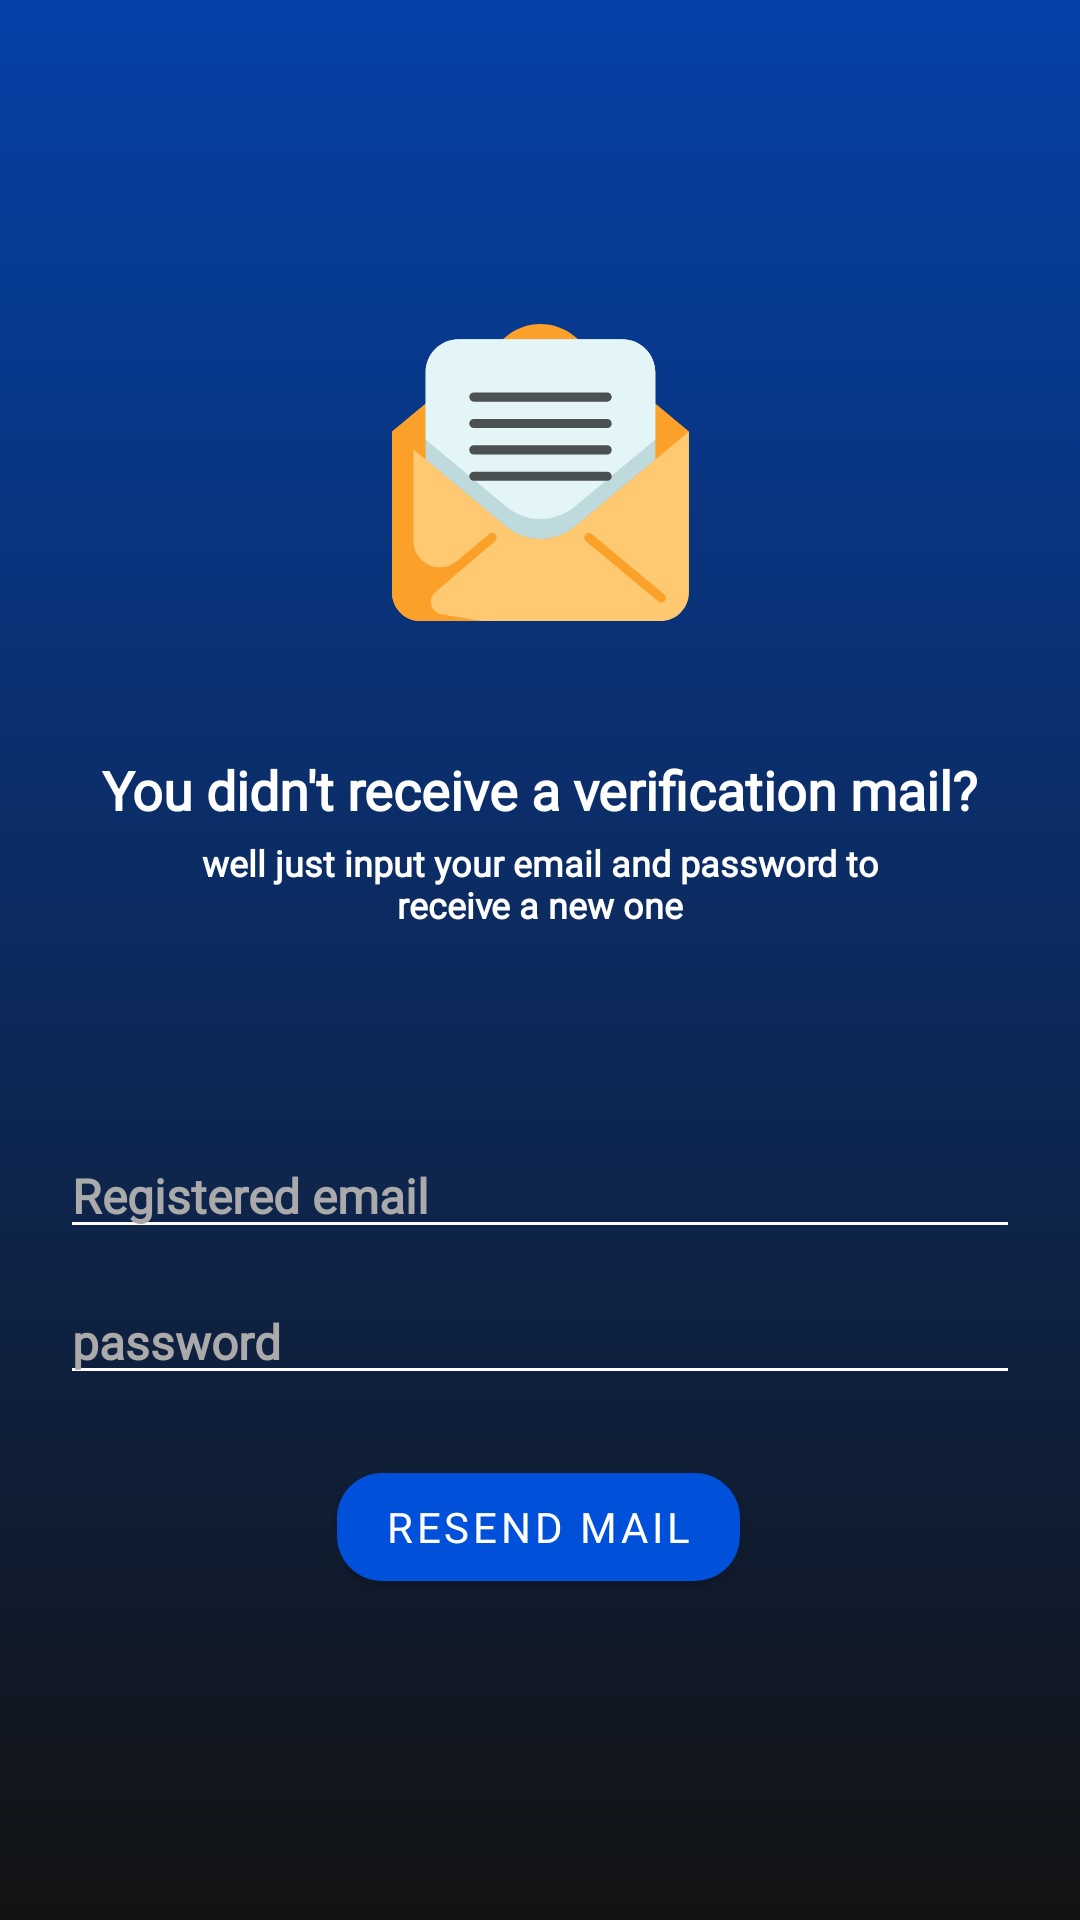

Named icons in this screenshot (1080x1920) and their centers, (x,y):
open email: (540,472)
